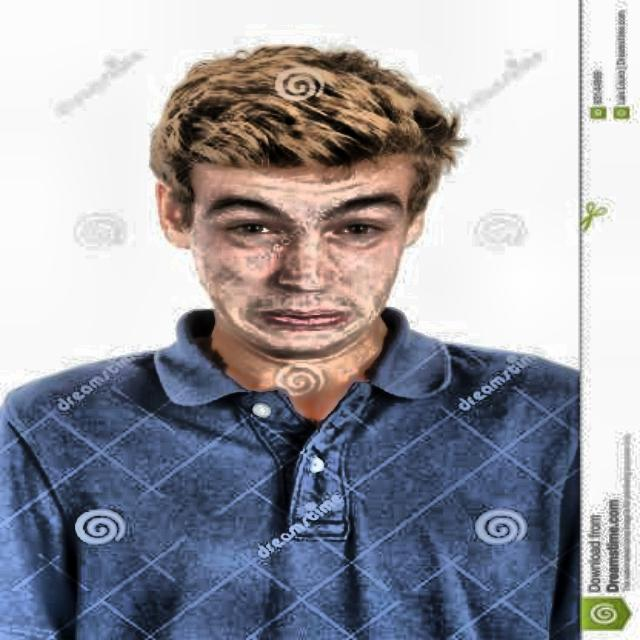disgust: (136, 35, 471, 376)
